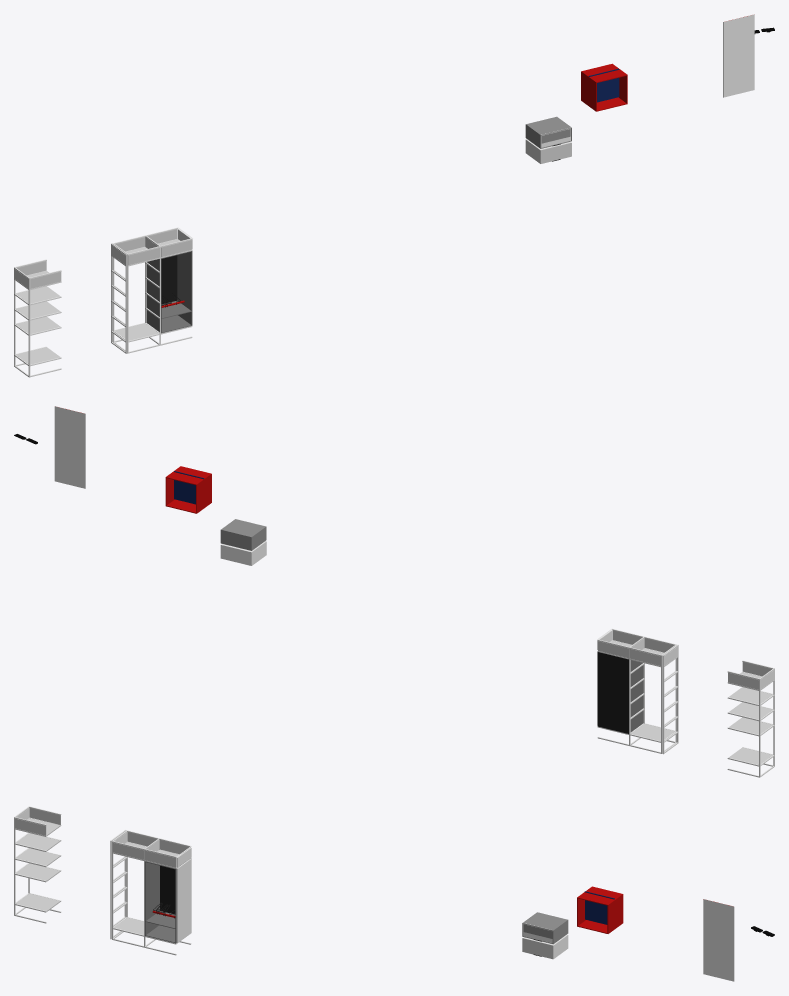
Rendered from grid_office.FBX.
3 renders of one model, top to bottom at view 1: azimuth 30°, elevation 25°; view 2: azimuth 150°, elevation 25°; view 3: azimuth 330°, elevation 25°, orthographic.
Parts seen in each view (by area): view 1: Object020, Object019, Box2807, Grid_normal051, Layer:-3-09_grid_modul017, Object037, Layer:-3-09_grid_modul016; view 2: Object020, Object019, Box2807, Grid_normal051, Layer:-3-09_grid_modul017, Object037, Layer:-3-09_grid_modul016; view 3: Object020, Object019, Box2807, Grid_normal051, Layer:-3-09_grid_modul017, Layer:-3-09_grid_modul016, Object037, Grid_normal052.
Boxes of the visible parts, x1,y1,x2,y2 form: Object020: [112, 227, 192, 353]; Object019: [14, 259, 61, 377]; Box2807: [723, 14, 754, 97]; Grid_normal051: [581, 63, 627, 111]; Layer:-3-09_grid_modul017: [525, 116, 571, 148]; Object037: [111, 243, 127, 353]; Layer:-3-09_grid_modul016: [525, 139, 571, 163]; Object020: [597, 628, 676, 753]; Object019: [727, 660, 774, 777]; Box2807: [54, 406, 85, 488]; Grid_normal051: [165, 466, 211, 513]; Layer:-3-09_grid_modul017: [220, 519, 266, 550]; Object037: [662, 644, 678, 754]; Layer:-3-09_grid_modul016: [220, 541, 266, 565]; Object020: [112, 830, 191, 955]; Object019: [14, 806, 61, 923]; Box2807: [703, 899, 734, 981]; Grid_normal051: [577, 886, 623, 933]; Layer:-3-09_grid_modul017: [522, 912, 568, 944]; Layer:-3-09_grid_modul016: [522, 934, 568, 959]; Object037: [110, 830, 126, 939]; Grid_normal052: [584, 891, 614, 924].
Bounding box in the file's own units: 1869 × 441 × 66.39.
